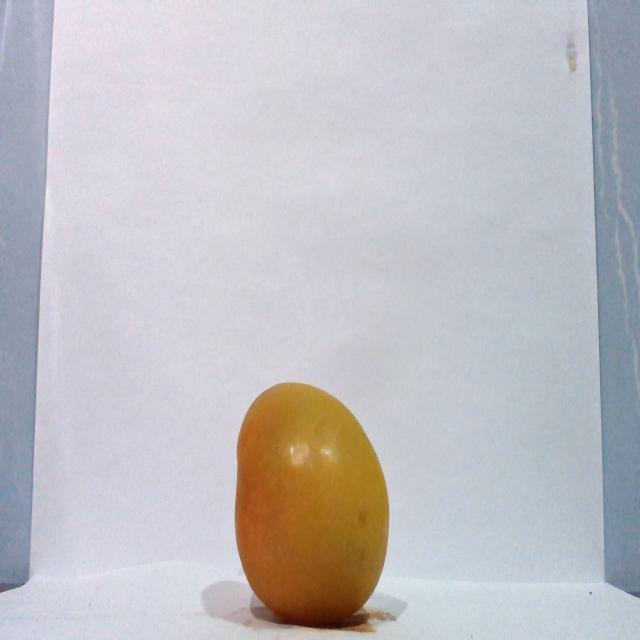Red: (233, 380, 390, 625)
